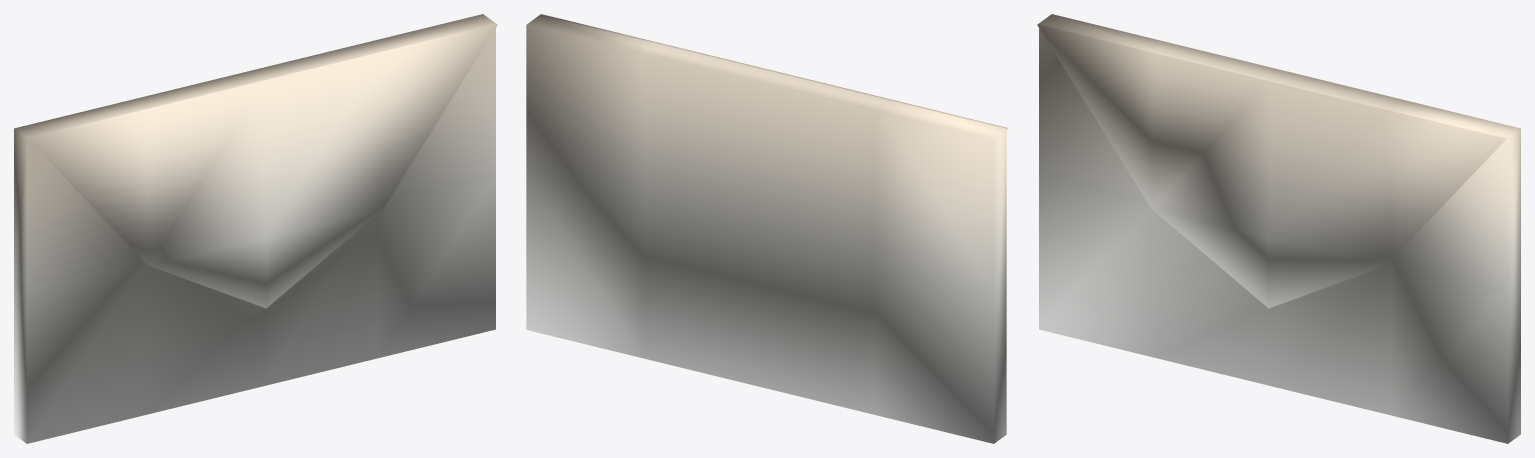
File: letter.fbx
3 views of the same model, side by side, from view 1: azimuth 30°, elevation 25°; view 2: azimuth 150°, elevation 25°; view 3: azimuth 330°, elevation 25° (orthographic).
Parts seen in each view (by area): view 1: Cylinder.014; view 2: Cylinder.014; view 3: Cylinder.014.
Boxes of the visible parts, x1,y1,x2,y2 form: Cylinder.014: (14,14,497,443); Cylinder.014: (526,14,1008,443); Cylinder.014: (1037,14,1520,443).
Size of the model in its own units: 8.78 by 5.47 by 0.5741.
